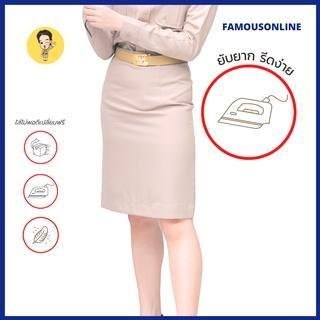skirt: (99, 53, 197, 221)
